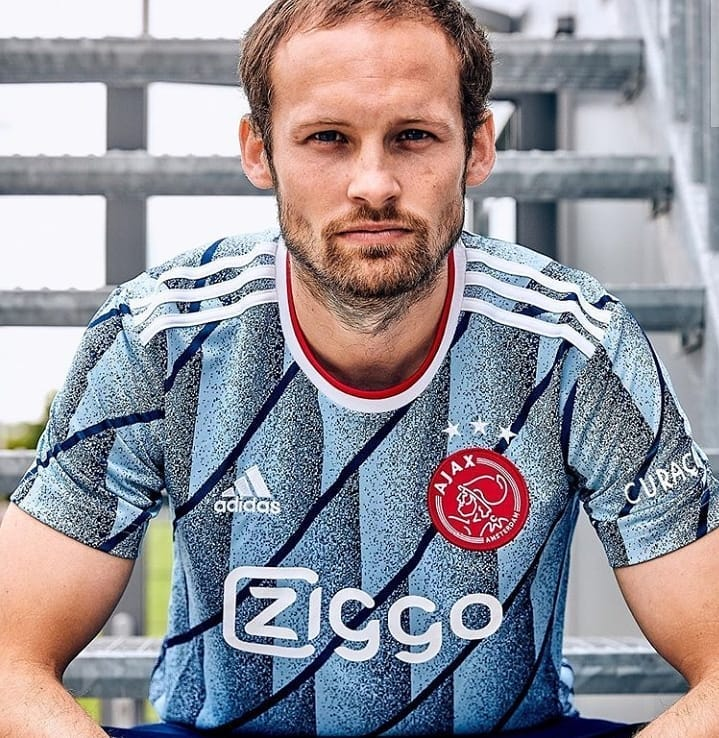adidas_1: (196, 436, 297, 534)
